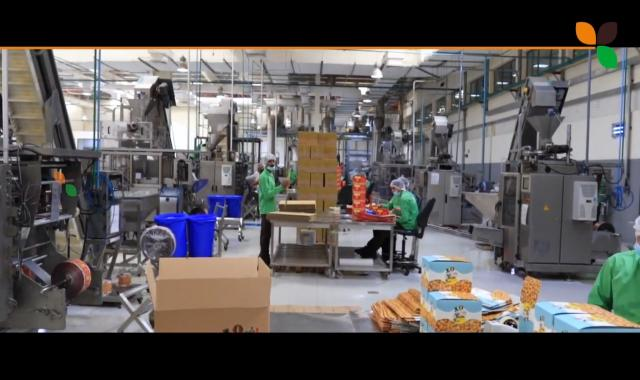hairnet: (262, 153, 276, 172), (391, 177, 405, 196)
